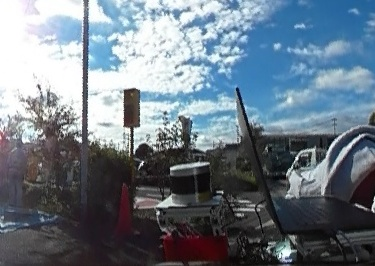person: (302, 116, 375, 255), (7, 138, 26, 212)
